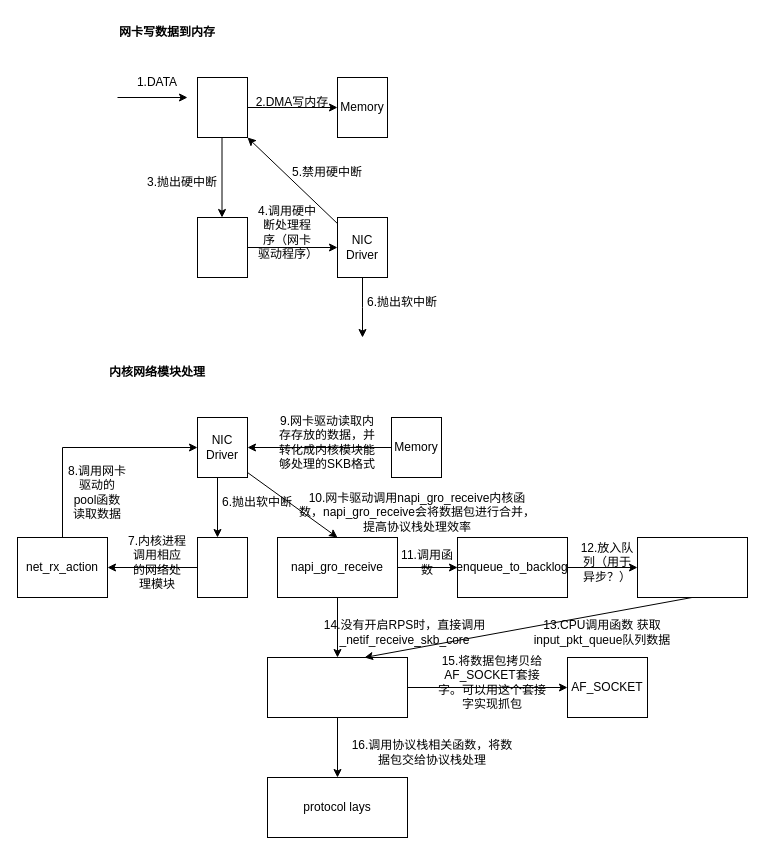
Image size: 765x855. Some labels were removed from this diagram. Here are the shapes that lost their labels. From the top down, the centre of each, then its label:
[222,107]: NIC
[222,247]: CPU
[222,567]: ksoftirqd
[692,567]: CPU input_pkt_queue
[337,687]: _netif_receive_skb_core
